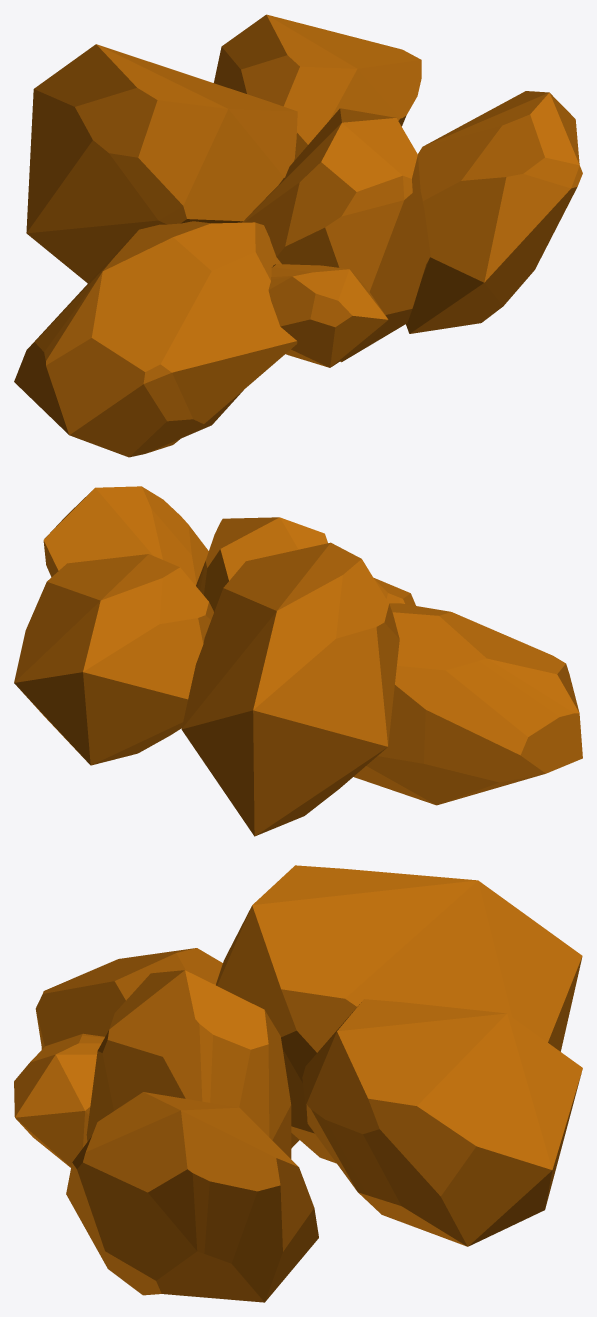
The model's file is kamienPustynia2.fbx.
3 renders of one model, top to bottom at view 1: azimuth 30°, elevation 25°; view 2: azimuth 150°, elevation 25°; view 3: azimuth 270°, elevation 25°, orthographic. The views are drawn at different scales.
Visible parts, largest first — view 1: Icosphere.002, Icosphere.004, Icosphere.001, Icosphere, Icosphere.005, Icosphere.003; view 2: Icosphere.004, Icosphere.005, Icosphere.002, Icosphere.001, Icosphere, Icosphere.003; view 3: Icosphere.005, Icosphere.004, Icosphere.001, Icosphere, Icosphere.003, Icosphere.002.
Boxes of the visible parts, x1,y1,x2,y2 form: Icosphere.002: (14,221,297,457); Icosphere.004: (26,44,297,283); Icosphere.001: (406,91,582,333); Icosphere: (242,108,430,362); Icosphere.005: (214,14,421,160); Icosphere.003: (268,264,388,367); Icosphere.004: (181,542,399,836); Icosphere.005: (14,554,213,765); Icosphere.002: (353,603,582,805); Icosphere.001: (43,486,208,585); Icosphere: (196,517,327,611); Icosphere.003: (373,577,415,605); Icosphere.005: (302,999,582,1246); Icosphere.004: (216,865,582,1163); Icosphere.001: (66,1092,318,1302); Icosphere: (86,970,291,1158); Icosphere.003: (14,1033,104,1167); Icosphere.002: (35,948,299,1148).
Bounding box in the file's own units: 661 × 346 × 504.
